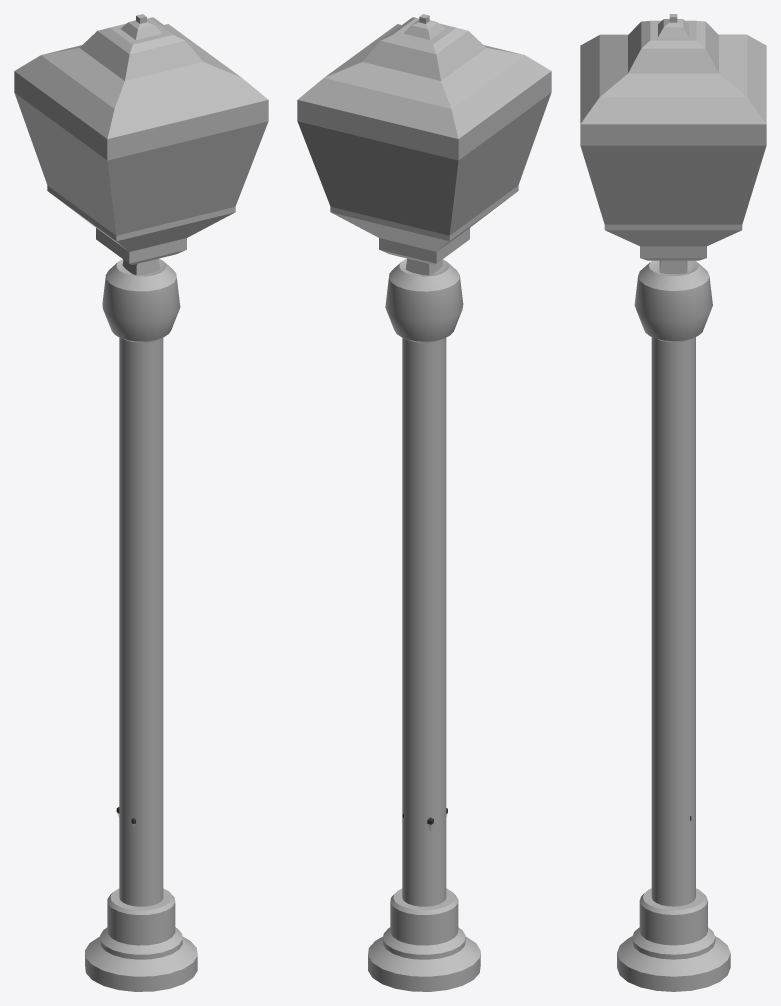
File: lampModelFull.fbx
3 renders of one model, left to right at view 1: azimuth 30°, elevation 25°; view 2: azimuth 150°, elevation 25°; view 3: azimuth 270°, elevation 25°, orthographic.
Parts seen in each view (by area): view 1: pCube1, pCylinder1; view 2: pCube1, pCylinder1; view 3: pCylinder1, pCube1.
Boxes of the visible parts, x1,y1,x2,y2 form: pCube1: (14,14,268,275); pCylinder1: (85,258,197,991); pCube1: (297,14,551,275); pCylinder1: (368,258,480,991); pCylinder1: (617,260,730,991); pCube1: (580,14,766,274).
Bounding box in the file's own units: 6.86 × 38.73 × 6.86.
2 materials, 2 textured.
